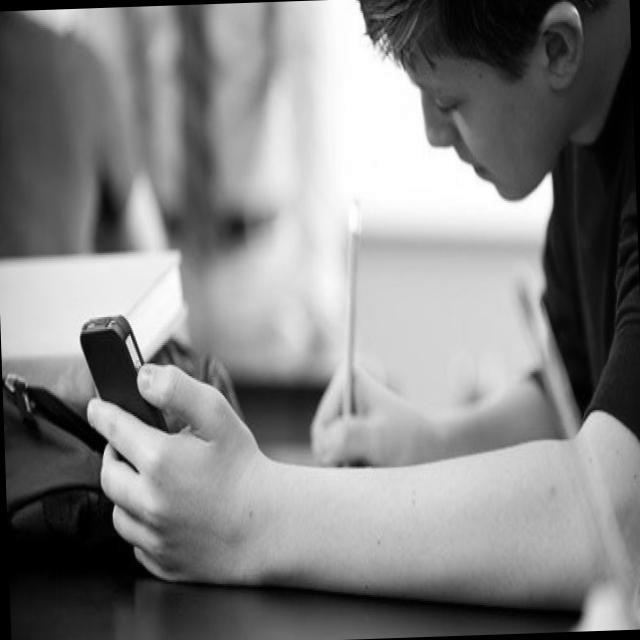phone: (78, 310, 170, 438)
